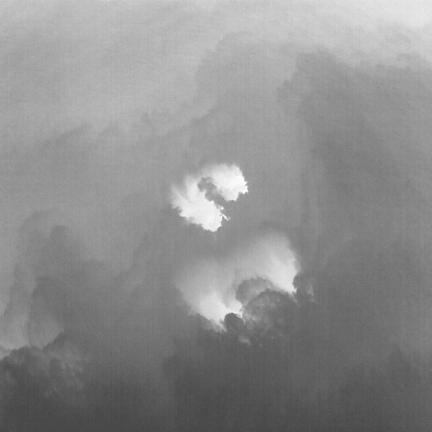flukeprints: (172, 178, 227, 231), (203, 165, 247, 201), (198, 292, 240, 321)
